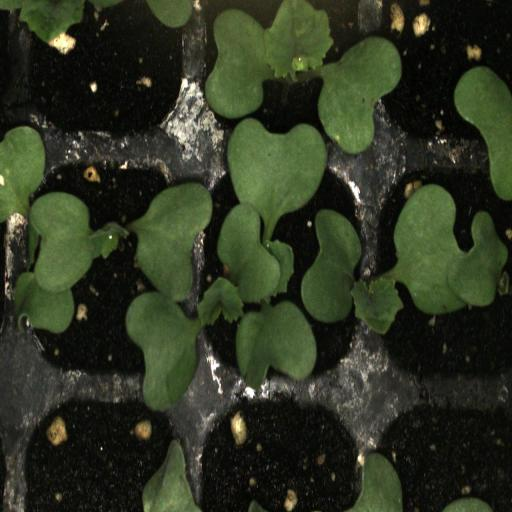Folha: (454, 66, 512, 201), (0, 0, 121, 42), (142, 439, 202, 512), (348, 452, 403, 512)
Germinacao: (191, 147, 372, 398), (10, 151, 188, 398), (369, 146, 512, 398), (196, 0, 371, 142)
